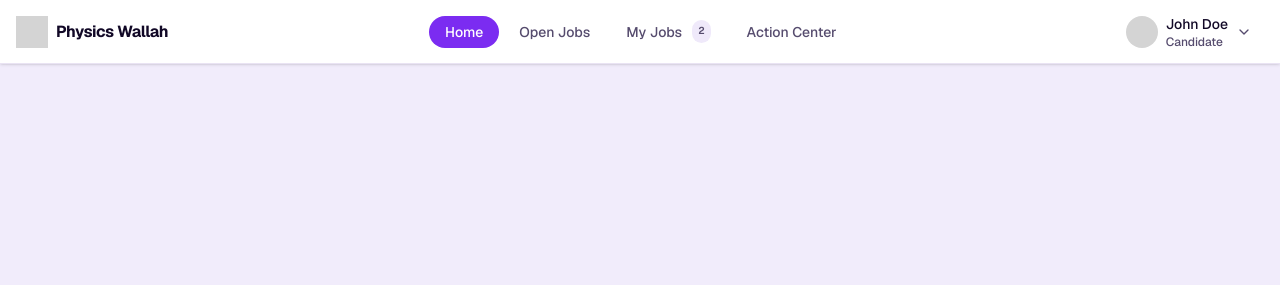
Test: PortalNavigation › displays user email
Click the button at (1189, 32), box top-left (1114, 14), bottom-right (1264, 50)
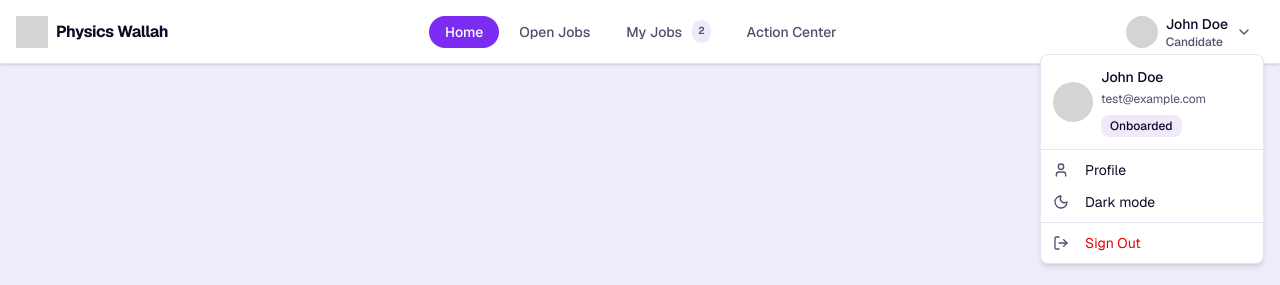
Expected: the menu is shown, top-left (1040, 54), bottom-right (1264, 264)
Expected: the text "test@example.com" is shown, top-left (1101, 91), bottom-right (1206, 107)
